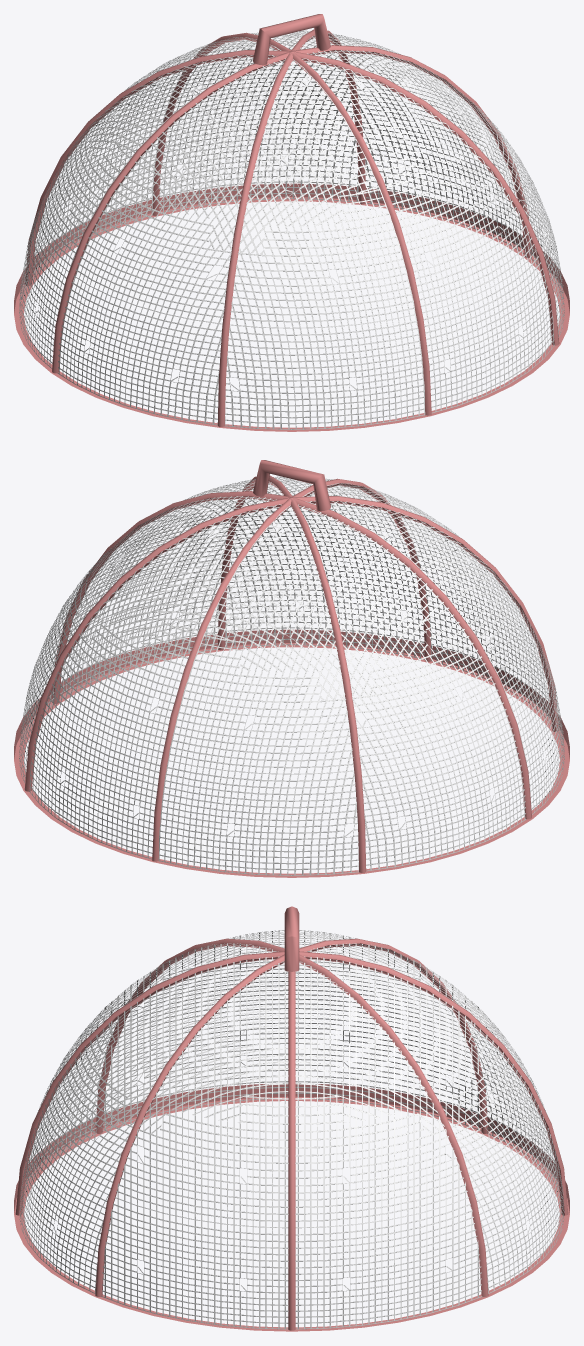
The model's file is LongBan.glb.
3 views of the same model, one above another, from view 1: azimuth 30°, elevation 25°; view 2: azimuth 150°, elevation 25°; view 3: azimuth 270°, elevation 25° (orthographic).
Visible parts, largest first — view 1: geometry_0; view 2: geometry_0; view 3: geometry_0.
Boxes of the visible parts, left/top/right/bottom form: geometry_0: left=14, top=14, right=569, bottom=431; geometry_0: left=14, top=460, right=569, bottom=877; geometry_0: left=14, top=906, right=569, bottom=1331.
Bounding box in the file's own units: 0.4503 × 0.2619 × 0.4503.
Materials: 2 (1 with a texture image).
